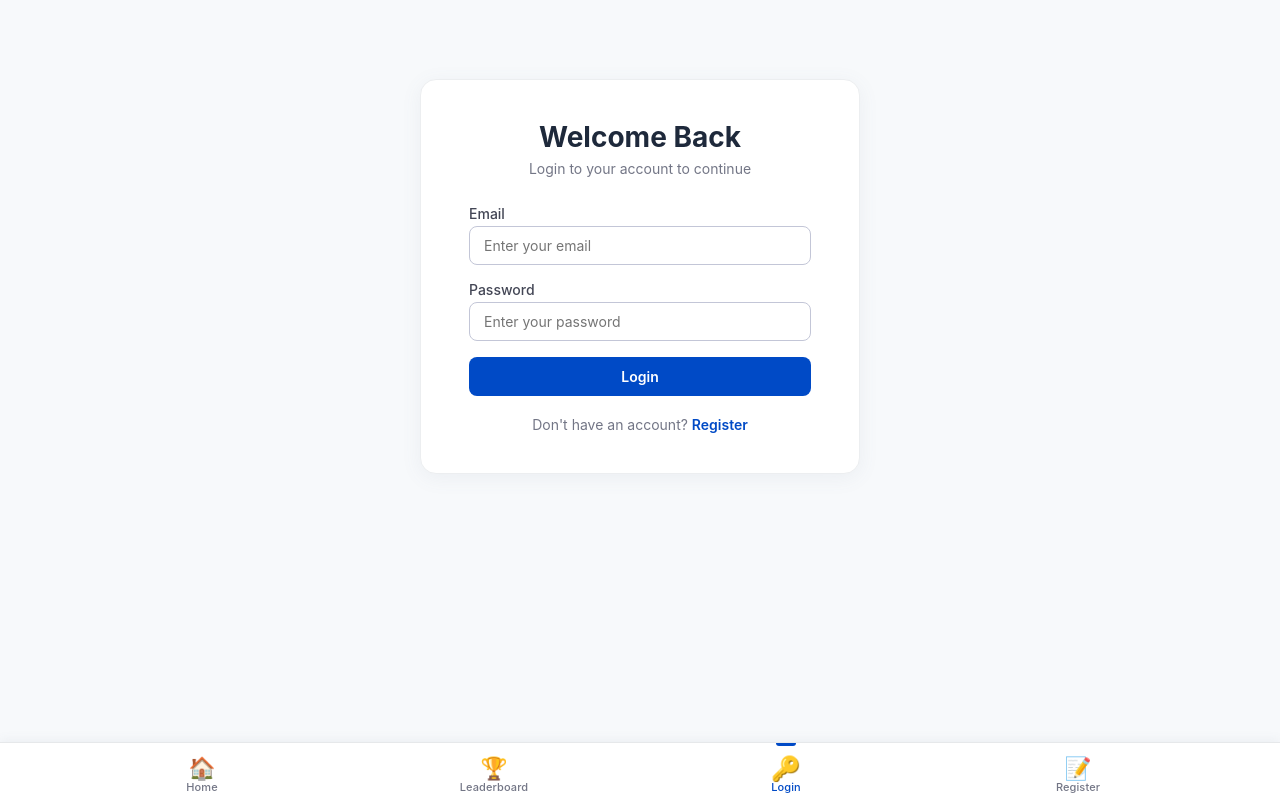
Login Flow E2E › should show validation error when inputs are empty
Click the submit button at [640, 377], box x1=469 y1=357 x2=811 y2=396
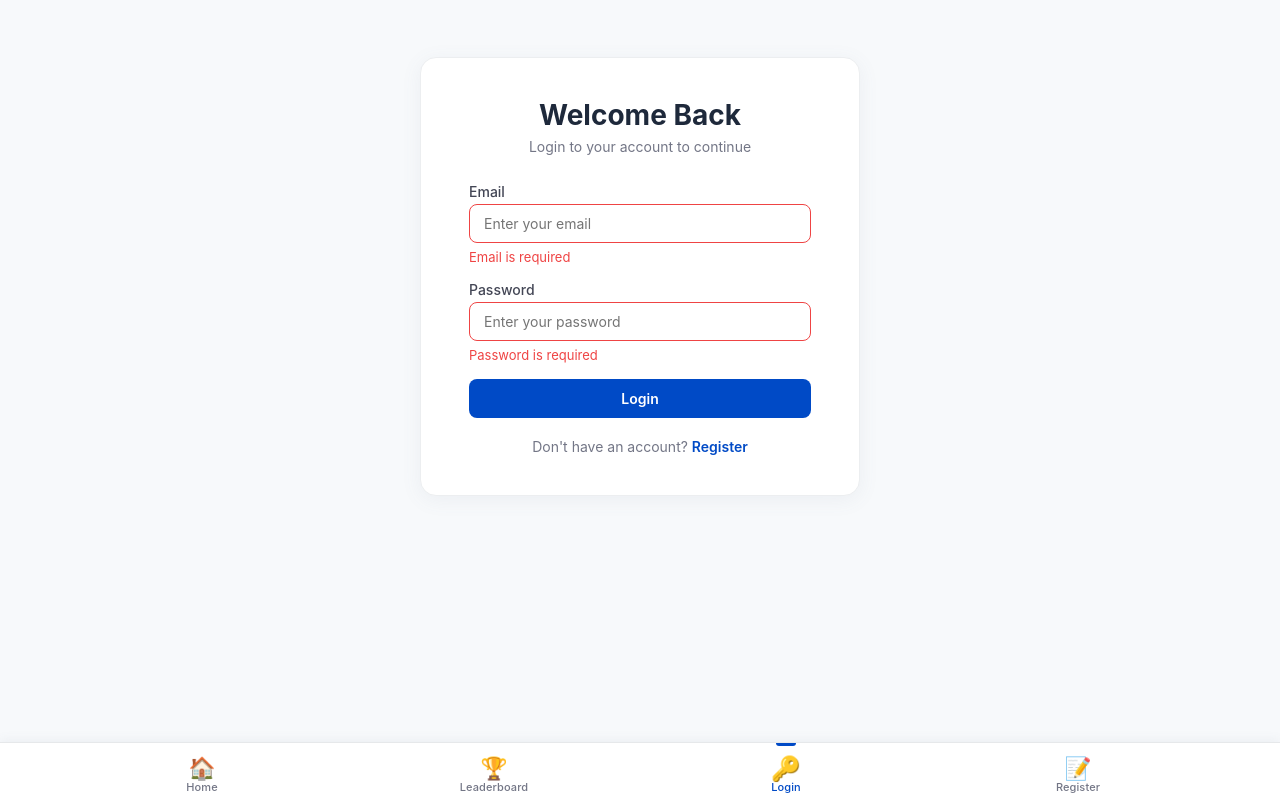
Check: the text "Email is required" is shown, box x1=469 y1=248 x2=570 y2=264
